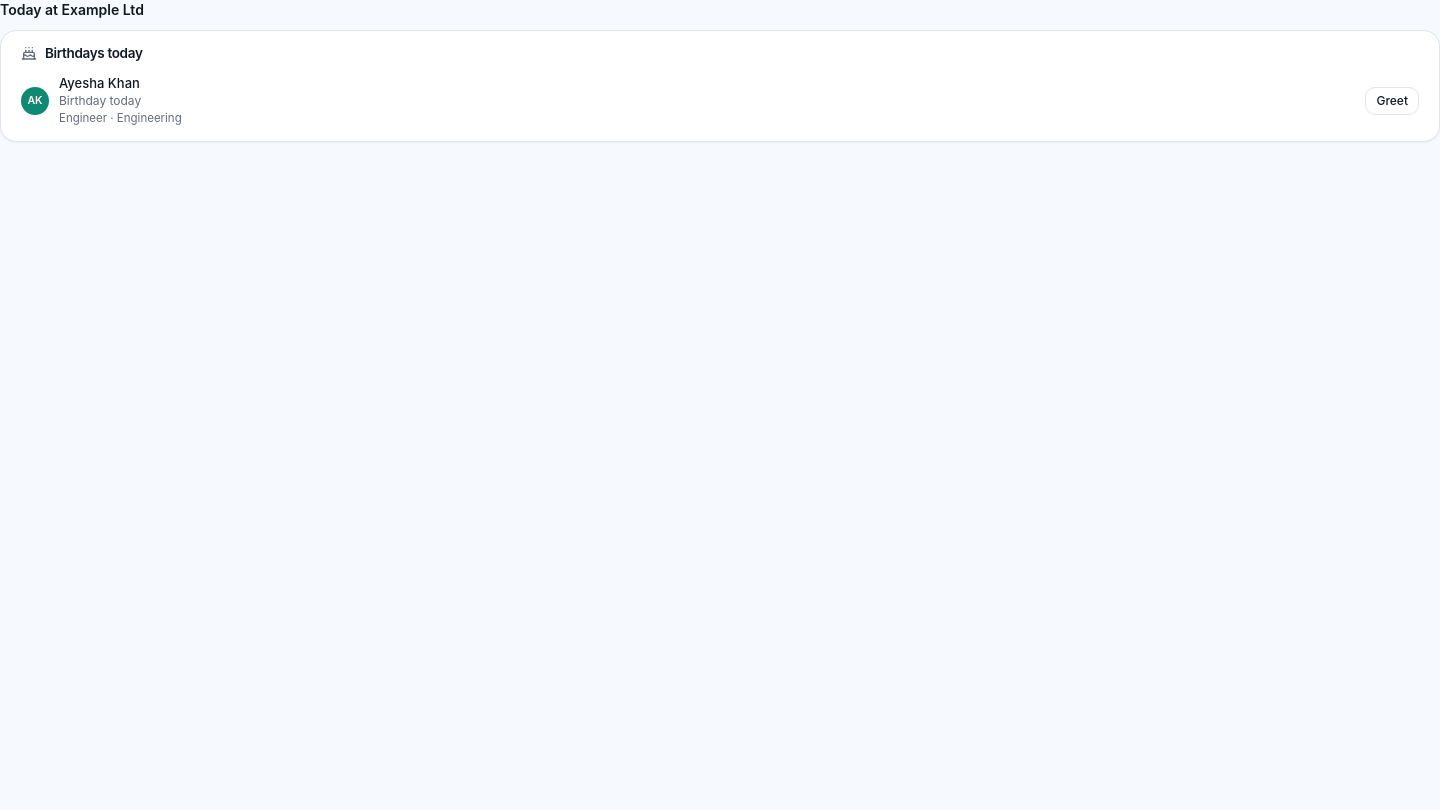
the greeting dialog › will not send an empty greeting
Click the button "Greet" at (1392, 101), box top-left (1365, 87), bottom-right (1419, 115)
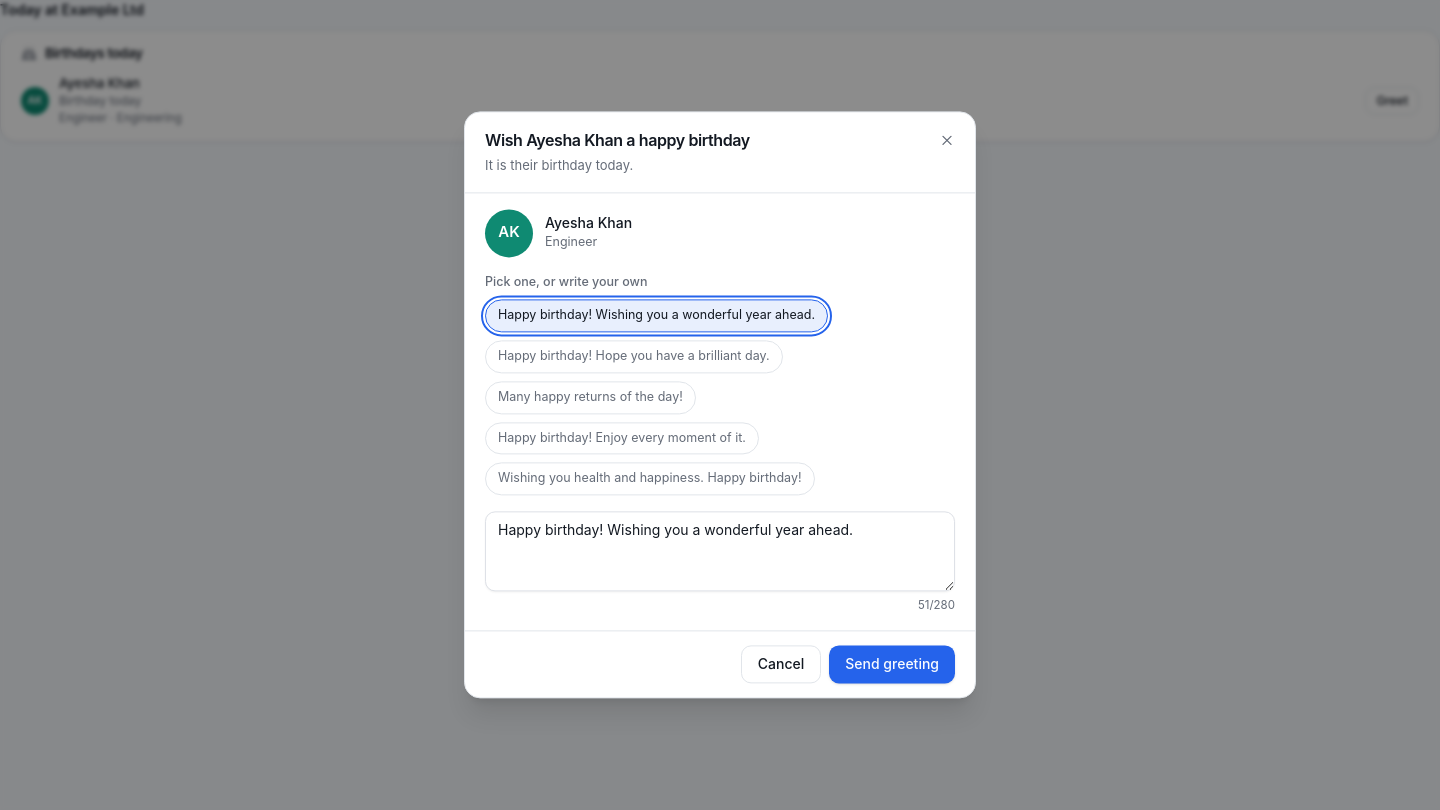
Clear the text box named "Your greeting" at (720, 551), box top-left (485, 511), bottom-right (955, 591)
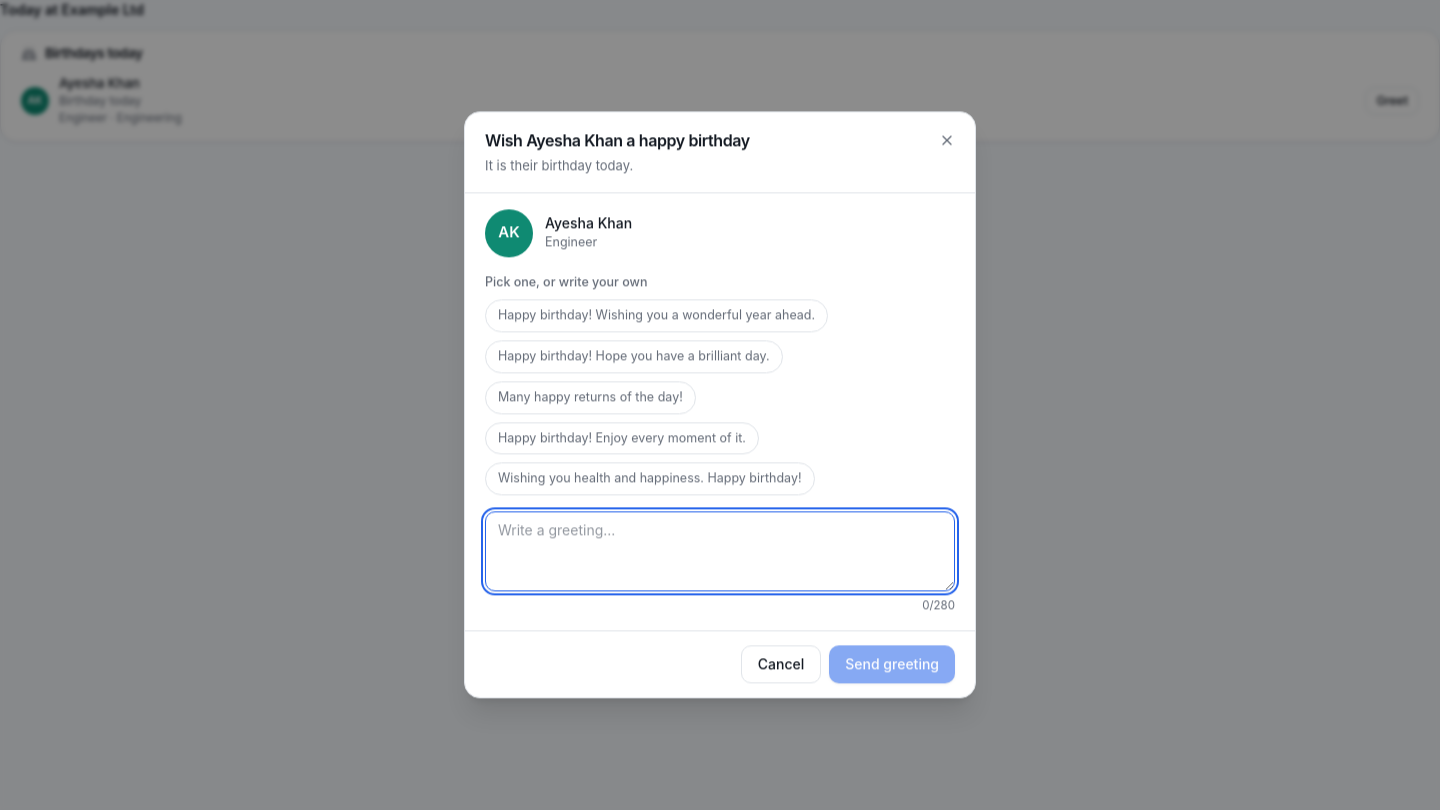
Result: the button "Send greeting" is disabled at top-left (829, 646), bottom-right (955, 684)
